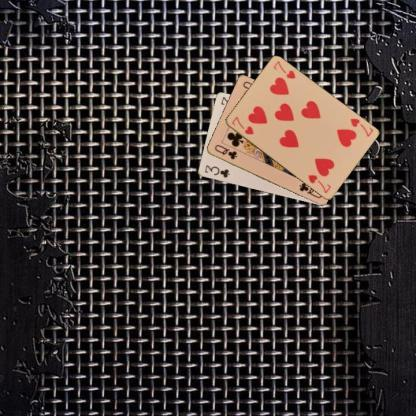3c: (202, 162, 231, 179)
7h: (348, 116, 375, 138), (229, 114, 255, 136)
Qc: (212, 142, 238, 161)
